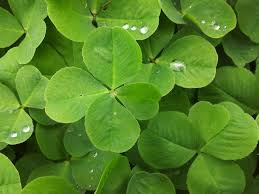4-clover: (46, 25, 159, 154)
